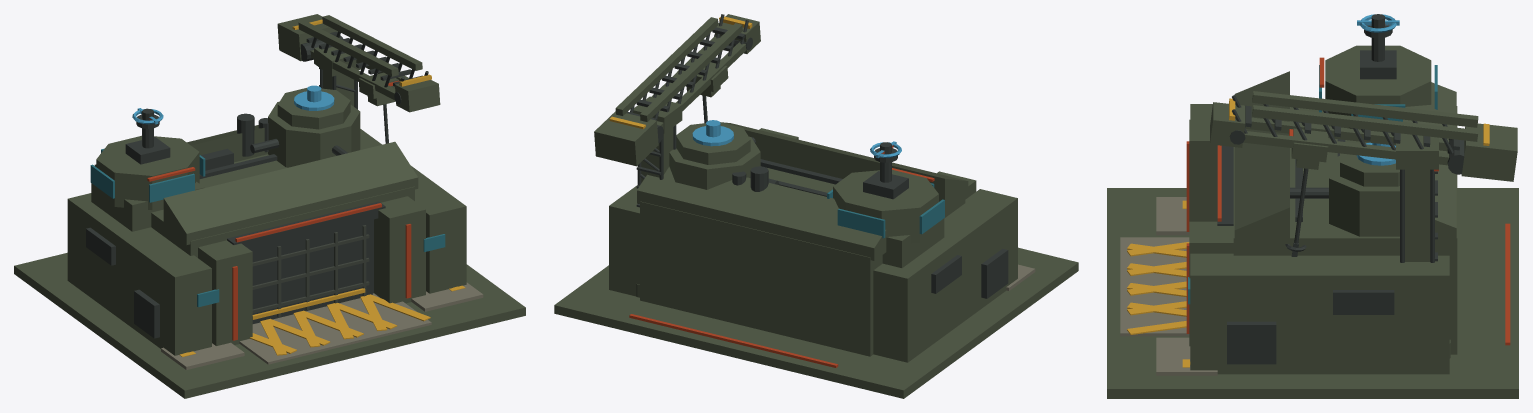
The model's file is Bastion_FabricationHub_Static.obj.
3 views of the same model, side by side, from view 1: azimuth 30°, elevation 25°; view 2: azimuth 150°, elevation 25°; view 3: azimuth 270°, elevation 25° (orthographic). The views are drawn at different scales.
Visible parts, largest first — view 1: Bastion_FabricationHub_Static; view 2: Bastion_FabricationHub_Static; view 3: Bastion_FabricationHub_Static.
Boxes of the visible parts, x1,y1,x2,y2 form: Bastion_FabricationHub_Static: (14,14,525,398); Bastion_FabricationHub_Static: (554,14,1078,398); Bastion_FabricationHub_Static: (1107,14,1518,398).
Bounding box in the file's own units: 12 × 7.38 × 10.4.
Materials: 1 (1 with a texture image).
